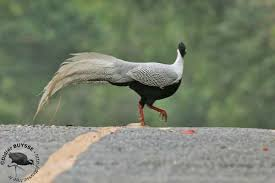Walking: (18, 33, 215, 127)
